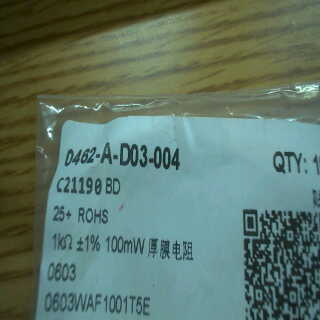1kR: (45, 231, 75, 252)
